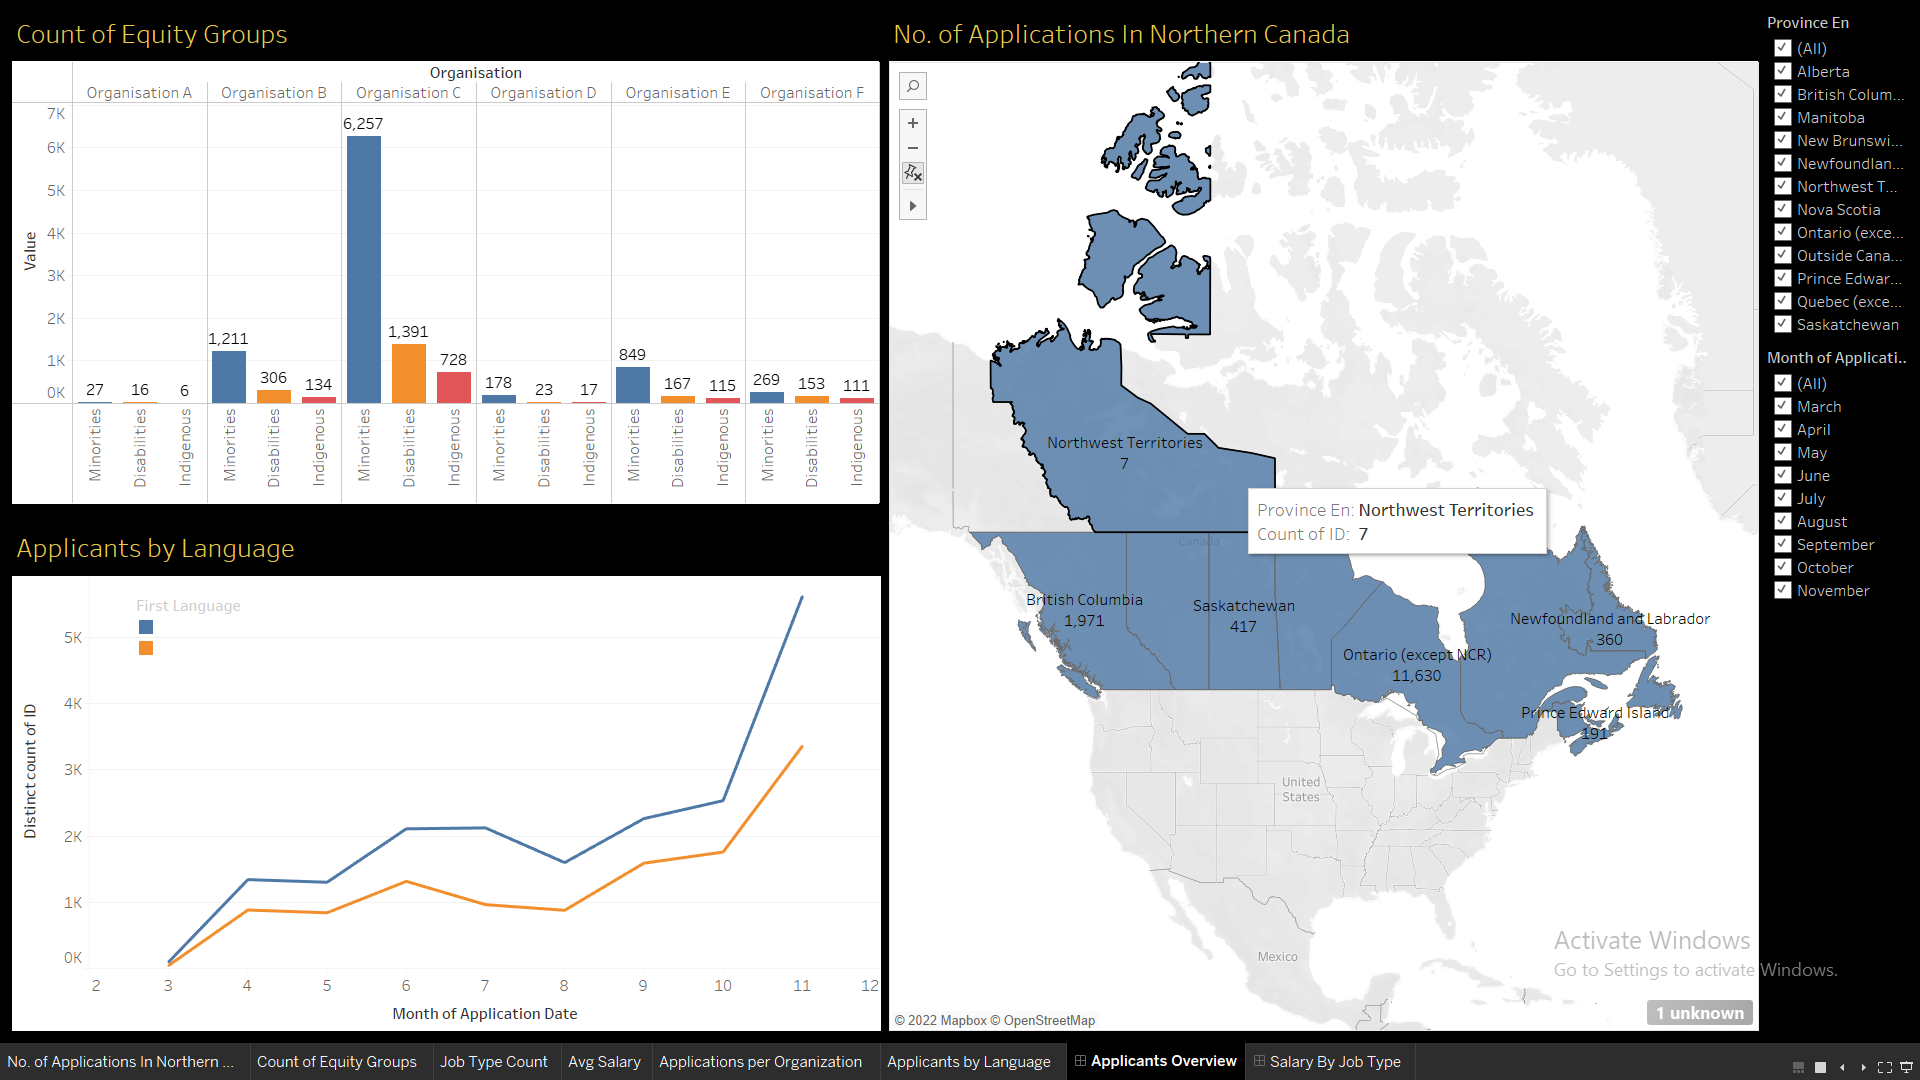

This screenshot's page, from the dashboard's own definition file:
{"tool":"tableau","page":{"name":"Applicants Overview","canvas":[1000,1000],"units":"permille","ordinal":0},"visuals":[{"type":"worksheet","title":"Count of Equity Groups","mark":"Automatic","cols":["ORGANISATION"],"box":[6.8,11.9,429.9,488.1]},{"type":"worksheet","title":"No. of Applications In Northern Canada","mark":"Multipolygon","box":[436.7,11.9,430,976.1]},{"type":"filter","title":"No. of Applications In Northern Canada","param":"[federated.1nue7rv1p7az7510prcvg0c8aso9].[none:PROVINCE_EN:nk]","box":[866.6,11.9,126.6,500]},{"type":"legend","title":"Applicants by Language","param":"[federated.1nue7rv1p7az7510prcvg0c8aso9].[none:FIRST_LANGUAGE:nk]","box":[738.7,68.5,84.5,74.3]},{"type":"worksheet","title":"Applicants by Language","mark":"Automatic","rows":["ID"],"cols":["APPLICATION_DATE"],"box":[6.8,500,429.9,488.1]},{"type":"filter","title":"No. of Applications In Northern Canada","param":"[federated.1nue7rv1p7az7510prcvg0c8aso9].[mn:APPLICATION_DATE:ok]","box":[866.6,511.9,126.6,397]}]}

Visuals, with their boxes on the dashboard's canvas, which has no fixed pixel size, in thousandths of its width and height (x1, y1, x2, y2). These are canvas units, not pixel positions in the 1920x1080 screenshot, which may show the page scaled, cropped or inside an application window:
"Count of Equity Groups" worksheet: region(7, 12, 437, 500)
"No. of Applications In Northern Canada" worksheet (Multipolygon marks): region(437, 12, 867, 988)
"No. of Applications In Northern Canada" filter: region(867, 12, 993, 512)
"Applicants by Language" legend: region(739, 68, 823, 143)
"Applicants by Language" worksheet: region(7, 500, 437, 988)
"No. of Applications In Northern Canada" filter: region(867, 512, 993, 909)
